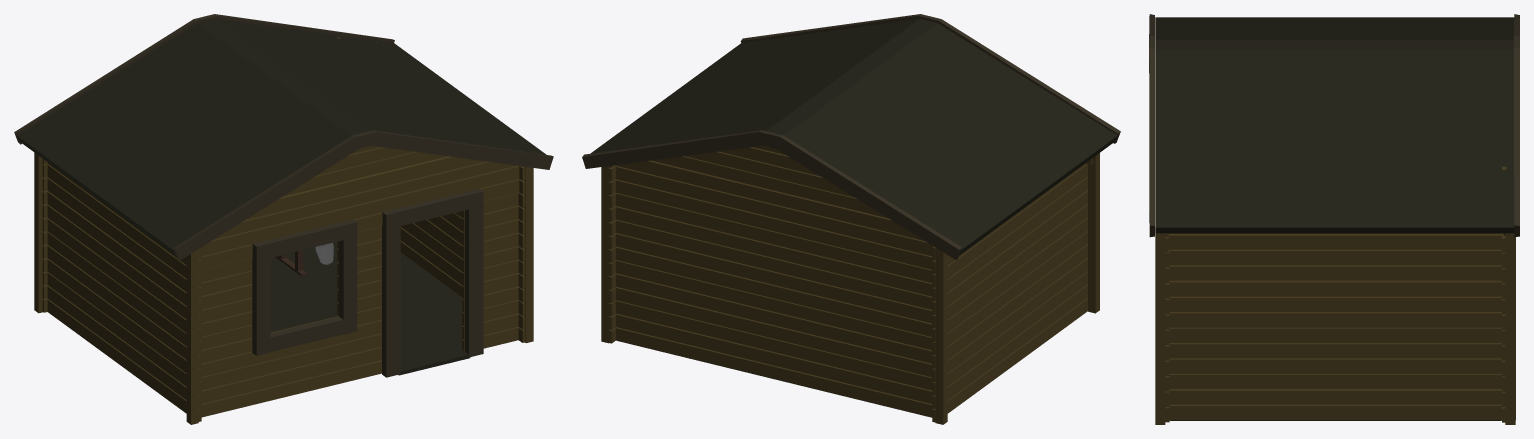
File: cabane avec objet.fbx
3 renders of one model, left to right at view 1: azimuth 30°, elevation 25°; view 2: azimuth 150°, elevation 25°; view 3: azimuth 270°, elevation 25°, orthographic. The views are drawn at different scales.
Parts seen in each view (by area): view 1: Cube.002, Cube.001, Cube.023; view 2: Cube.002, Cube.001, Cube.023; view 3: Cube.001, Cube.002, Cube.023.
Part boxes in pixels (x1,y1,x2,y2): Cube.002: (34, 37, 533, 424); Cube.001: (17, 18, 546, 375); Cube.023: (14, 14, 553, 377); Cube.002: (601, 145, 1099, 424); Cube.001: (591, 18, 1117, 417); Cube.023: (582, 14, 1120, 259); Cube.001: (1155, 17, 1514, 420); Cube.002: (1155, 19, 1515, 424); Cube.023: (1149, 14, 1519, 237).
Size of the model in its own units: 530 by 336 by 391.
